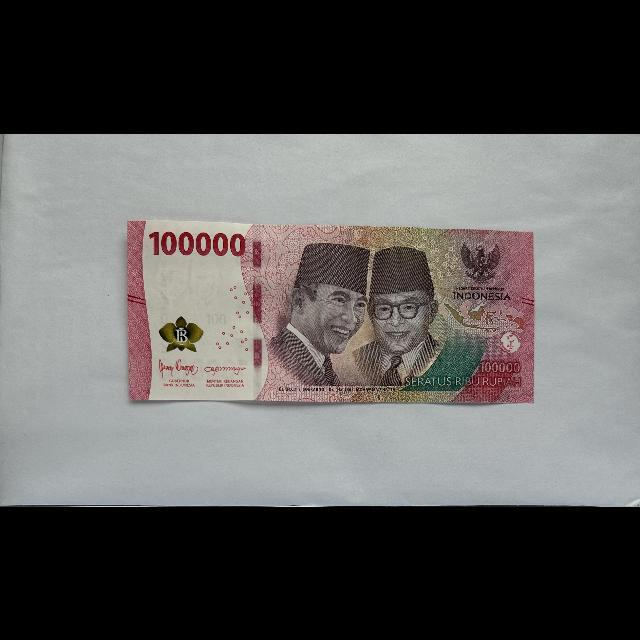Asli-100k: (126, 219, 536, 405)
Tinta-Asli-100k: (158, 313, 205, 353)
